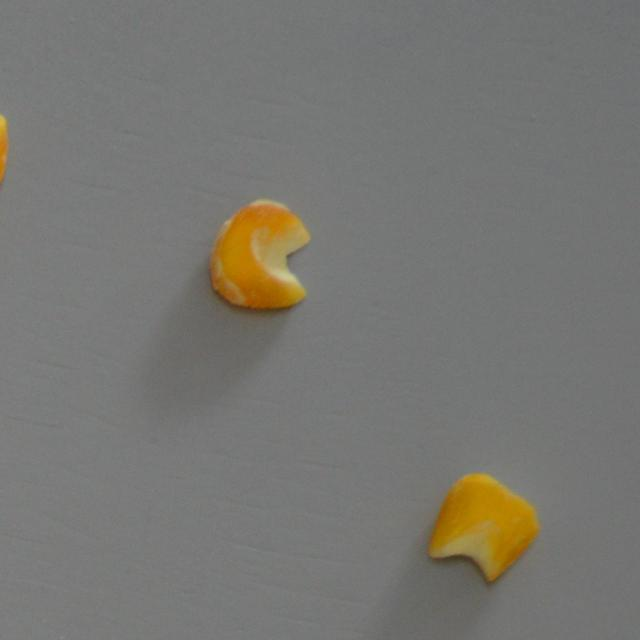no_canjicado: (428, 470, 538, 582)
pelicula: (206, 198, 314, 310)
